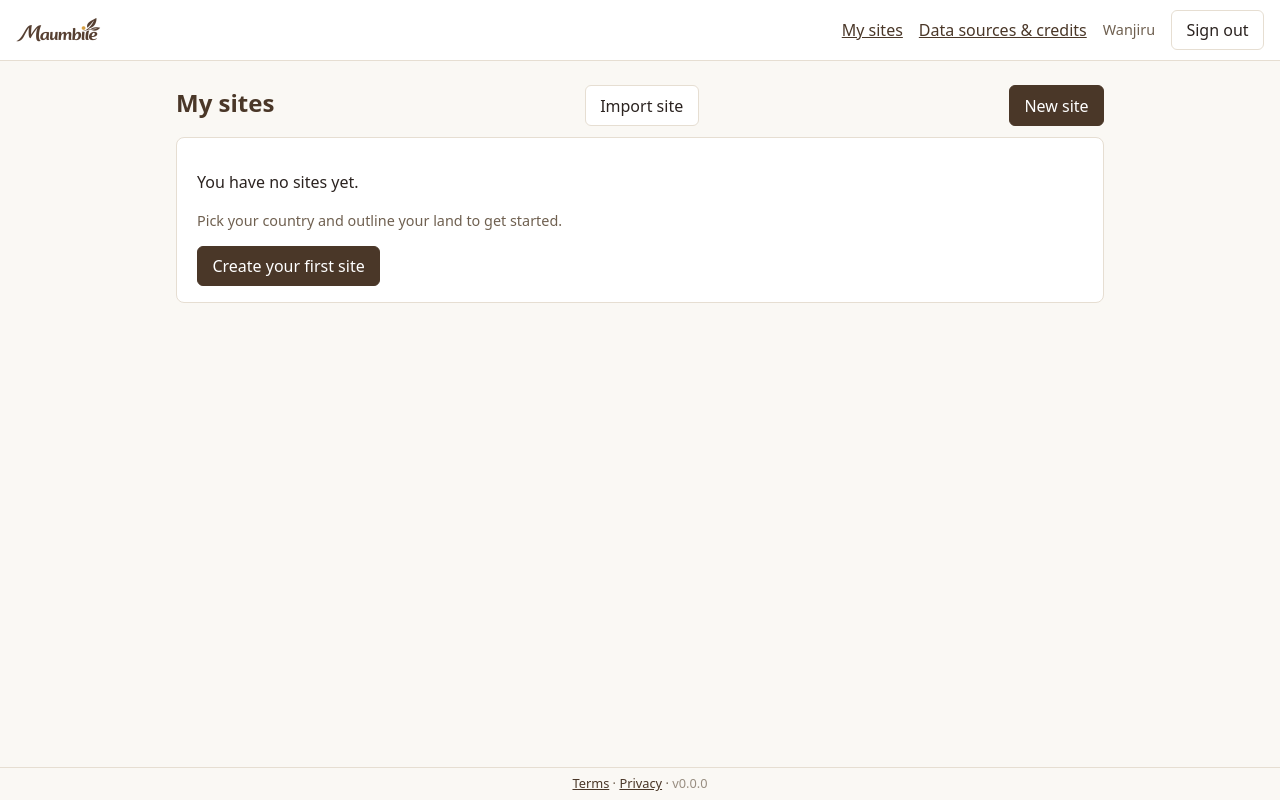
site setup flow › is reachable from the dashboard's New site button
The width and height of the screenshot is (1280, 800).
Click the link "New site" at (1056, 106), box 1009,85 -> 1104,126
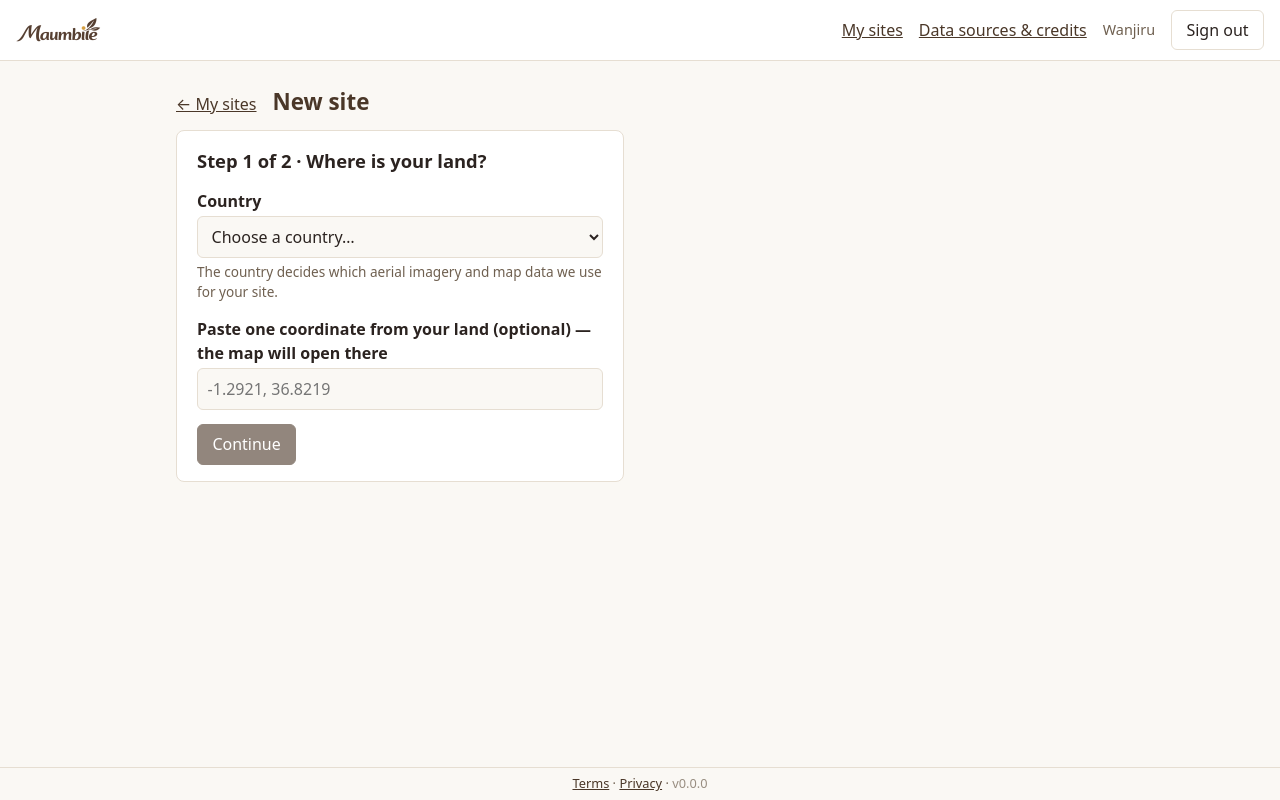
Now the heading "New site" is shown, box 272,85 -> 369,118
Now the heading "Step 1 of 2 · Where is your land?" is shown, box 197,148 -> 486,173
